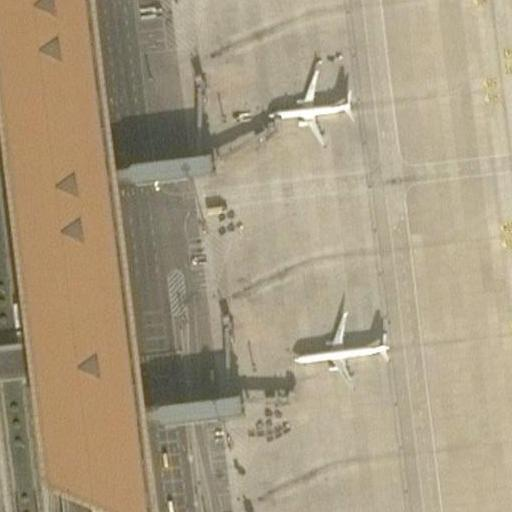Aircraft: (283, 295, 398, 391), (259, 56, 359, 149)
